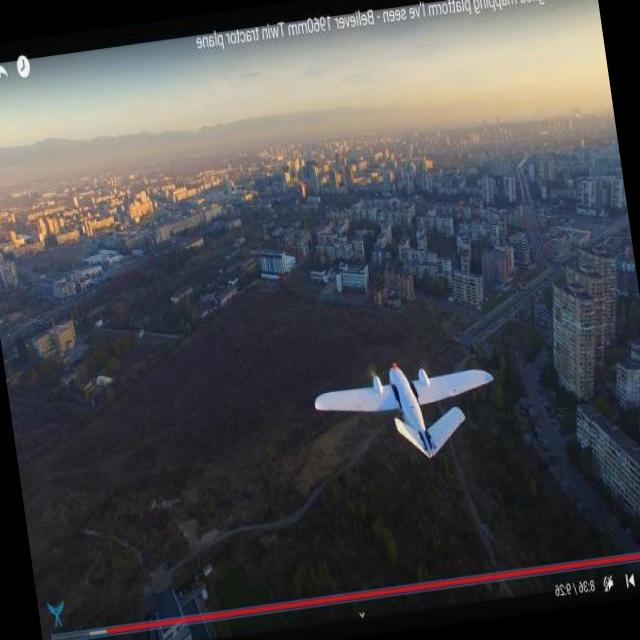UAV: (296, 325, 506, 472)
